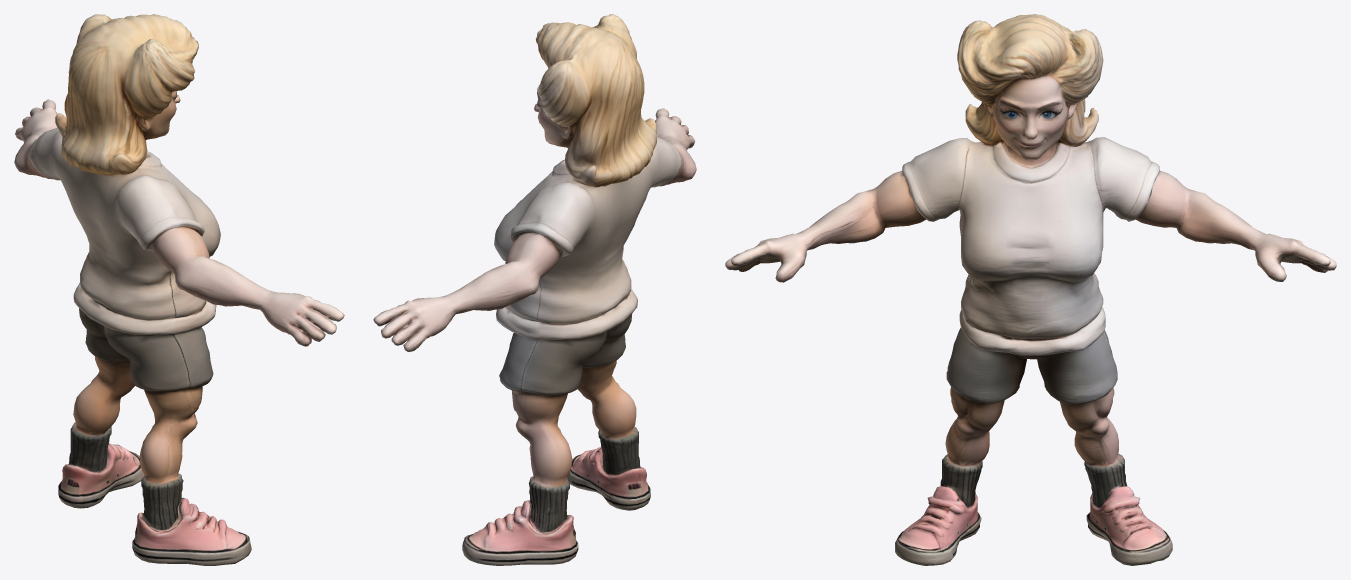
3 renders of one model, left to right at view 1: azimuth 30°, elevation 25°; view 2: azimuth 150°, elevation 25°; view 3: azimuth 270°, elevation 25°, orthographic. The views are drawn at different scales.
Visible parts, largest first — view 1: tripo_node_9013ccd5; view 2: tripo_node_9013ccd5; view 3: tripo_node_9013ccd5.
Boxes of the visible parts, x1=… form: tripo_node_9013ccd5: x1=14, y1=14, x2=344, y2=565; tripo_node_9013ccd5: x1=373, y1=14, x2=696, y2=565; tripo_node_9013ccd5: x1=725, y1=14, x2=1336, y2=565.
Size of the model in its own units: 26.22 by 92.95 by 100.
1 material, 1 textured.
